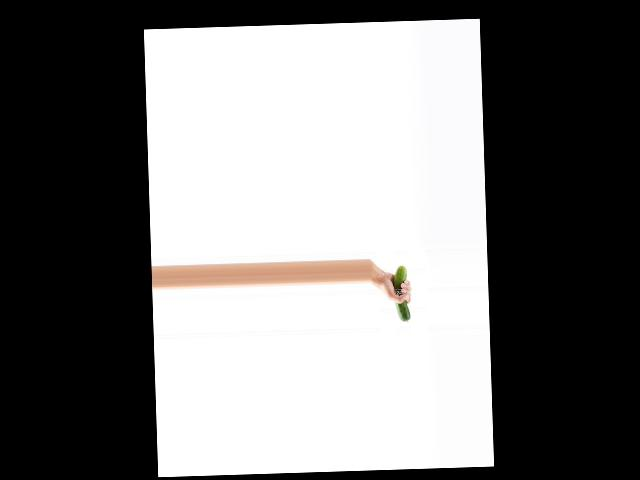cucumber: (393, 265, 411, 321)
